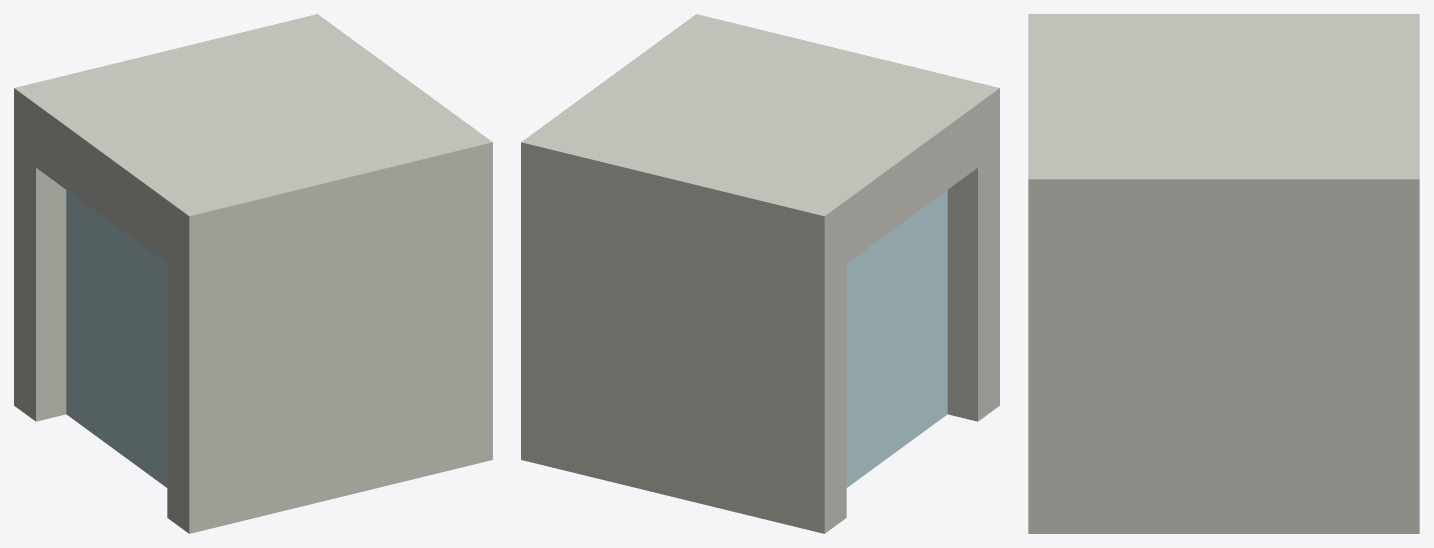
Rendered from Building Story 21.fbx.
3 views of the same model, side by side, from view 1: azimuth 30°, elevation 25°; view 2: azimuth 150°, elevation 25°; view 3: azimuth 270°, elevation 25° (orthographic). The views are drawn at different scales.
Parts seen in each view (by area): view 1: Building Story 21; view 2: Building Story 21; view 3: Building Story 21.
Part boxes in pixels (left/top/right/bottom): Building Story 21: left=14, top=14, right=492, bottom=533; Building Story 21: left=521, top=14, right=999, bottom=533; Building Story 21: left=1028, top=14, right=1419, bottom=533.
Size of the model in its own units: 1 by 1 by 1.
